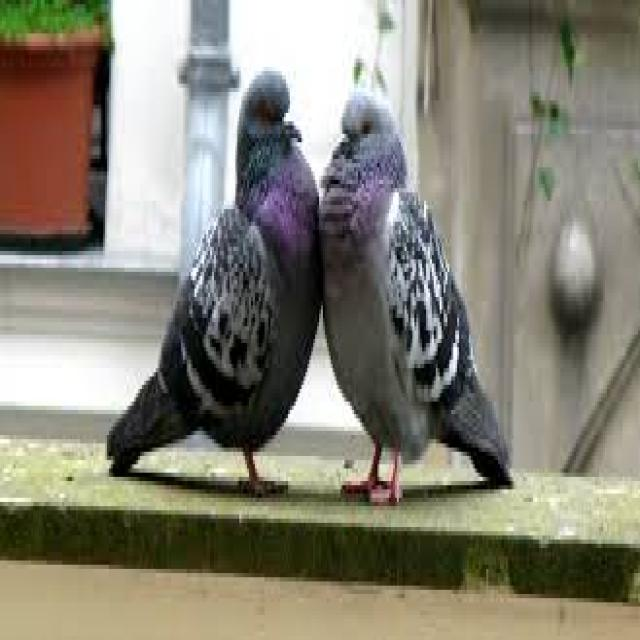pigeon: (100, 46, 316, 517)
